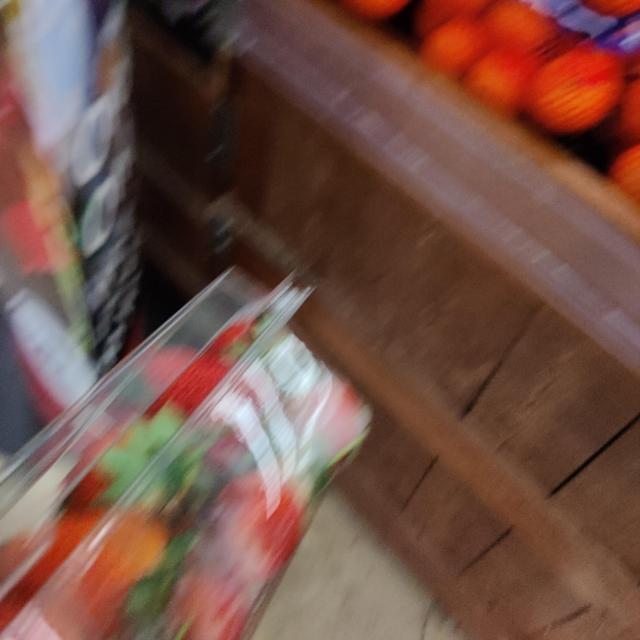orange: (427, 0, 632, 134)
